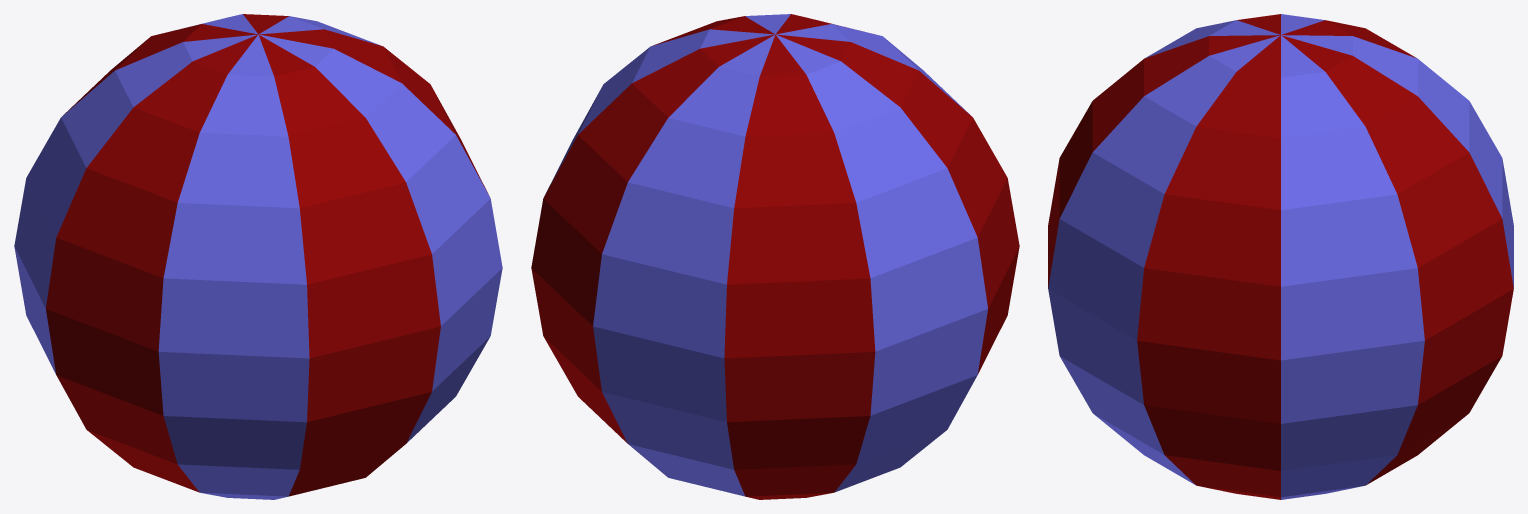
The model's file is StrandbalModel.fbx.
The picture shows the model from 3 angles, left to right: view 1: azimuth 30°, elevation 25°; view 2: azimuth 150°, elevation 25°; view 3: azimuth 270°, elevation 25°; orthographic projection.
Parts seen in each view (by area): view 1: pSphere1; view 2: pSphere1; view 3: pSphere1.
Boxes of the visible parts, x1,y1,x2,y2 form: pSphere1: (14, 14, 502, 499); pSphere1: (531, 14, 1019, 499); pSphere1: (1048, 14, 1513, 499).
Size of the model in its own units: 5.45 by 5.45 by 5.19.
